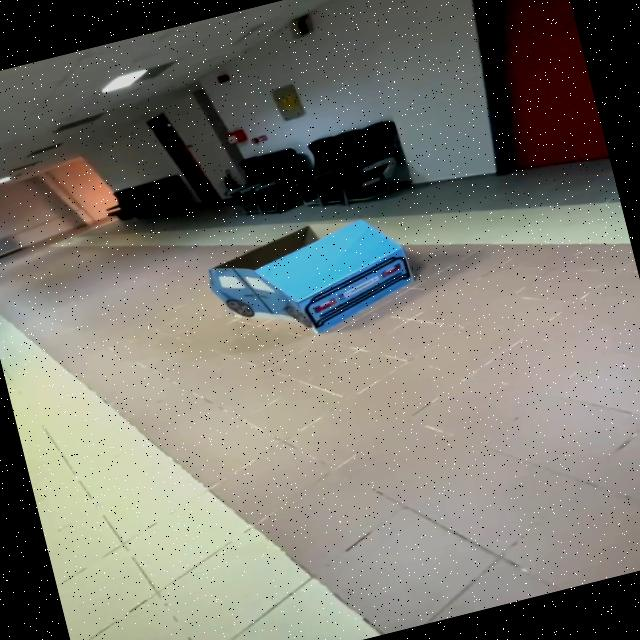blue_car: (182, 188, 436, 365)
